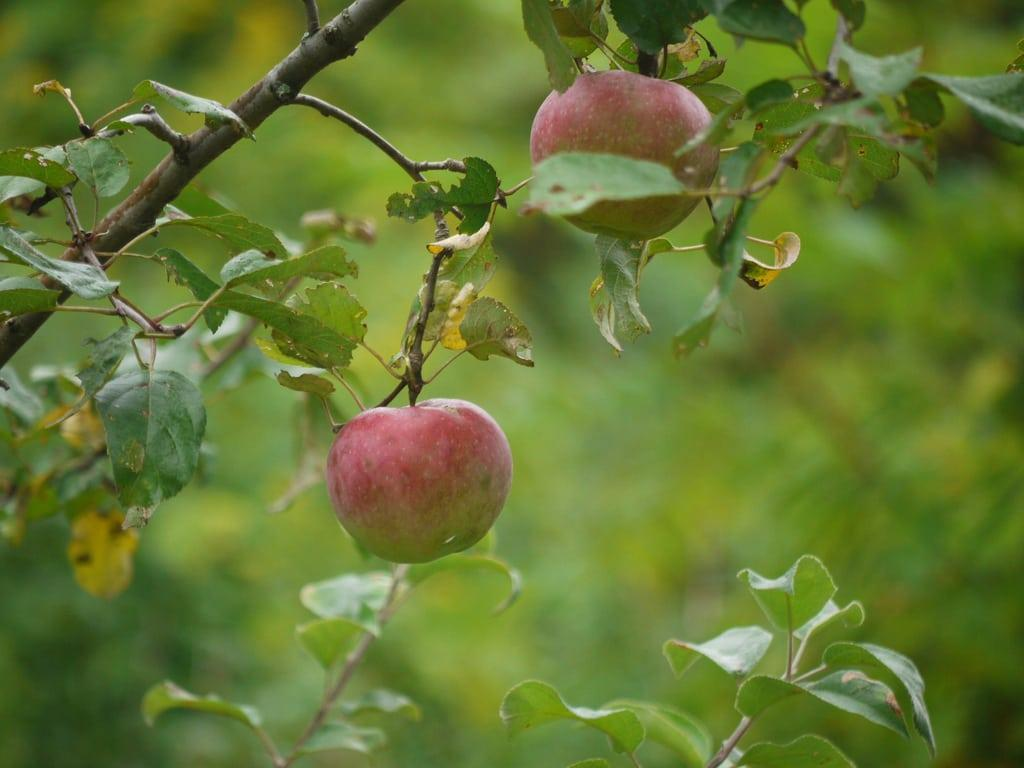apple: (323, 396, 513, 571), (525, 67, 717, 235)
